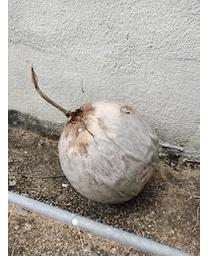coconut: (57, 90, 162, 207)
